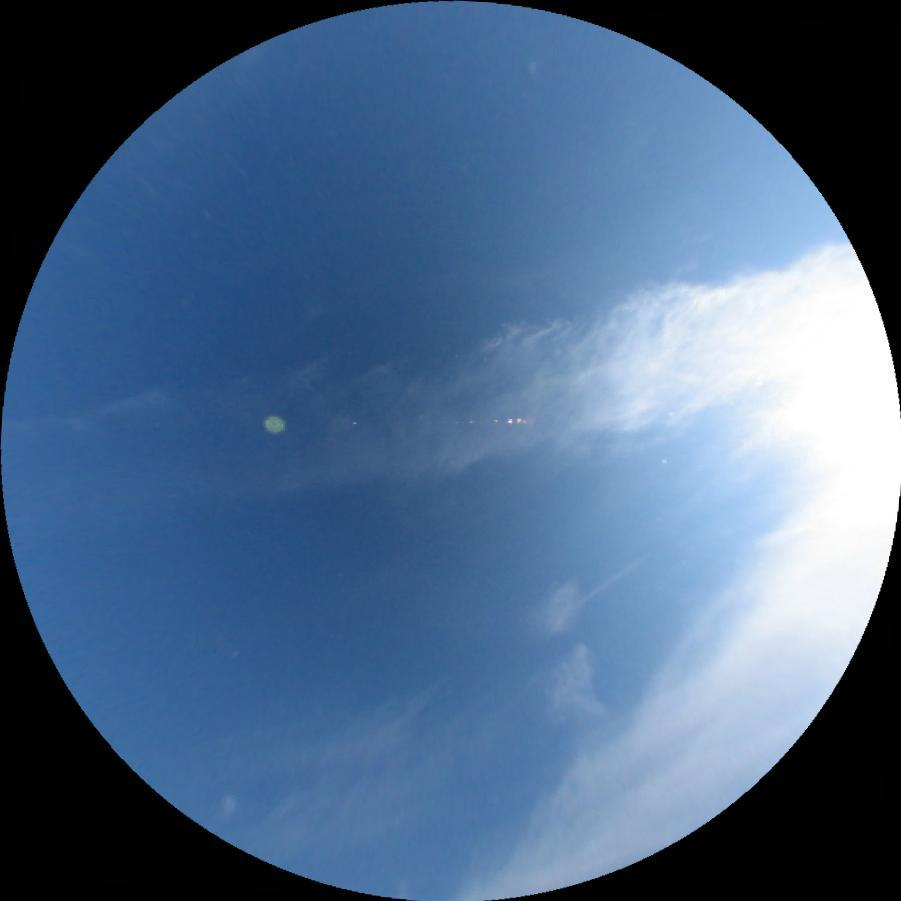contrail veryold: (200, 244, 876, 520), (514, 573, 607, 731)
unknow: (572, 558, 636, 607)
